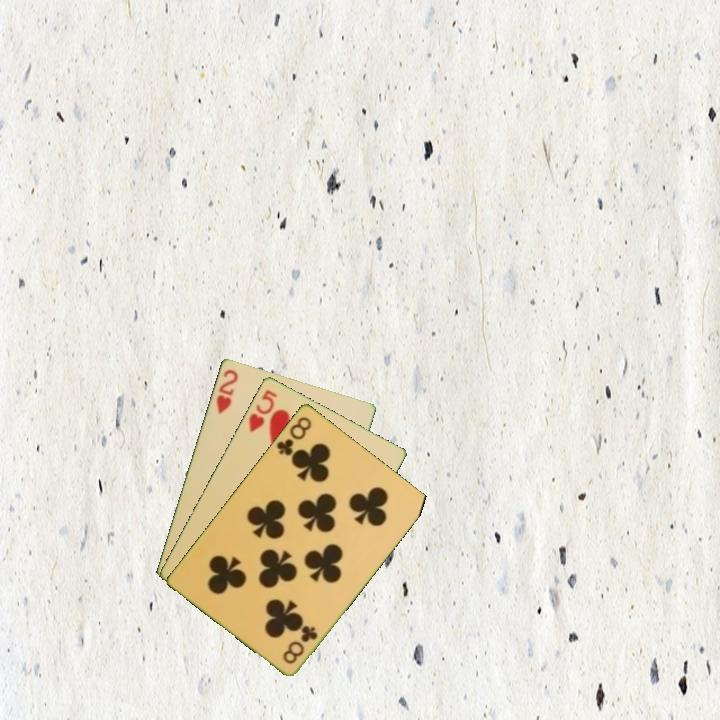2h: (212, 365, 241, 417)
5h: (245, 386, 280, 435)
8c: (272, 412, 314, 458), (279, 621, 321, 667)
